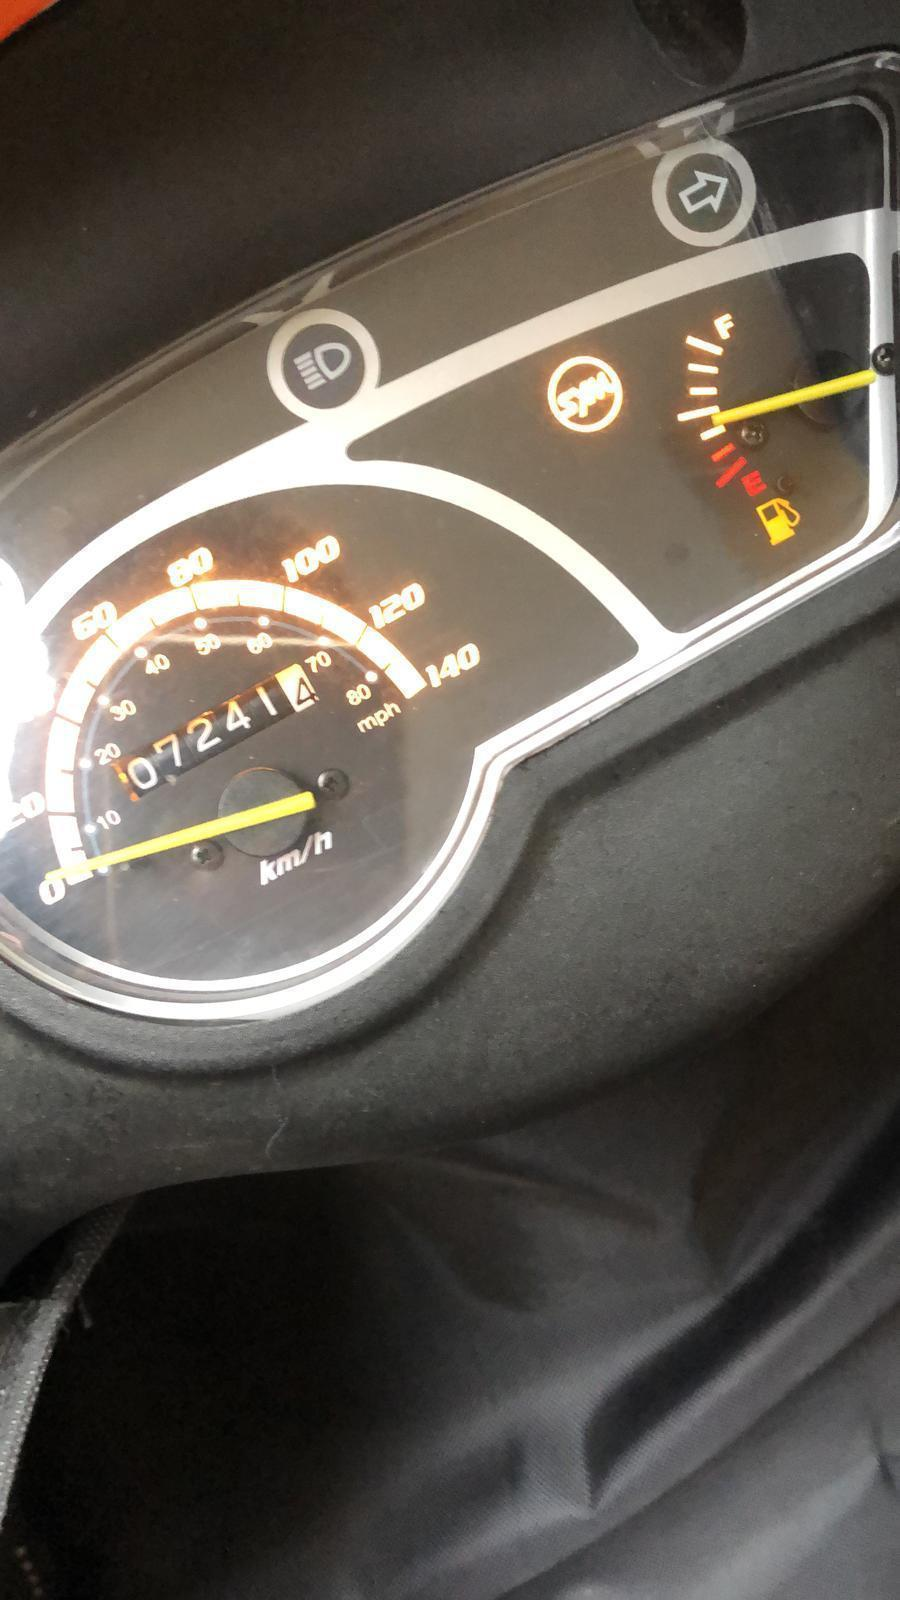0: (123, 756, 159, 791), (122, 697, 138, 716), (155, 651, 171, 669), (108, 740, 121, 758)
1: (254, 681, 279, 719)
2: (185, 716, 224, 754)
3: (109, 705, 124, 721)
4: (218, 696, 253, 731), (288, 675, 319, 705), (144, 658, 159, 676)
7: (151, 732, 188, 769), (304, 655, 318, 673)
odometer: (110, 659, 323, 802)
